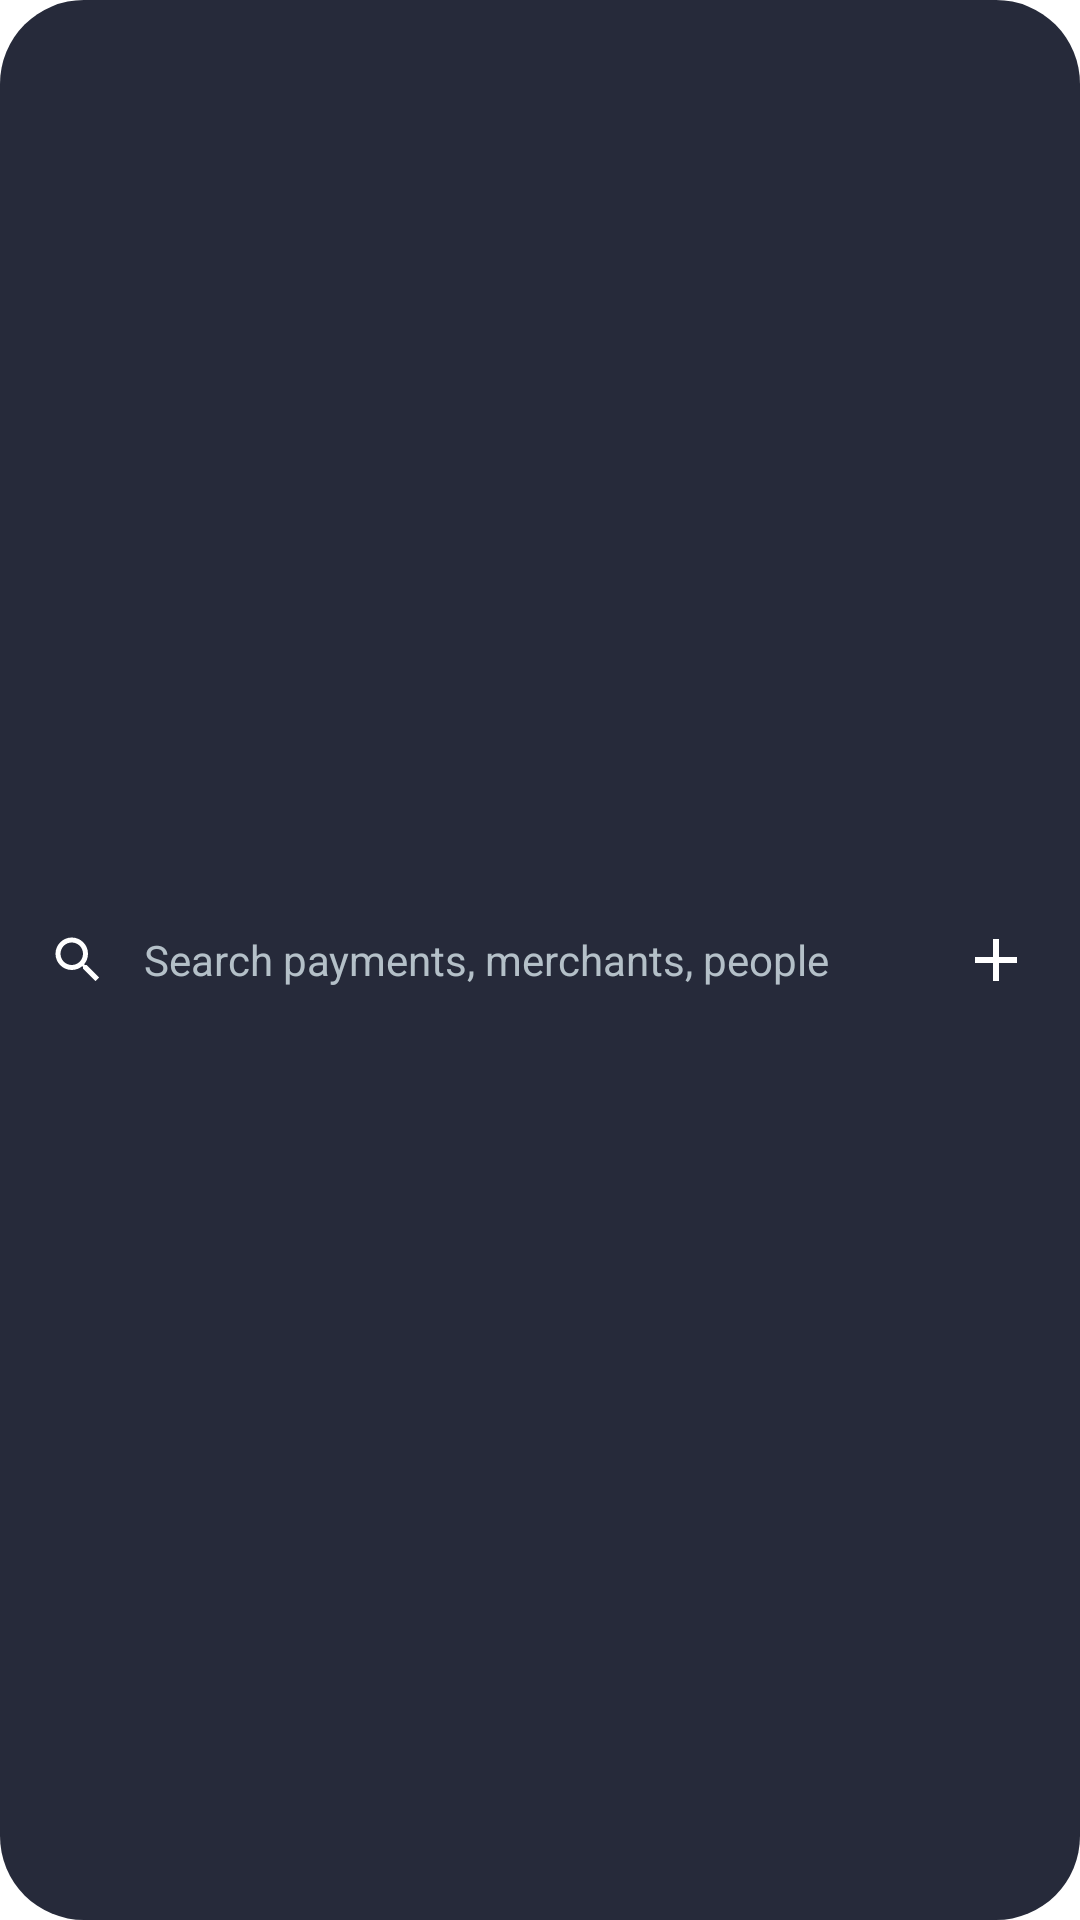

Named icons in this screenshot (1080*1920) and their bounding boxes, (x1, y1, x2, y2):
tile add: (975, 939, 1017, 981)
widget search: (55, 937, 99, 981)
